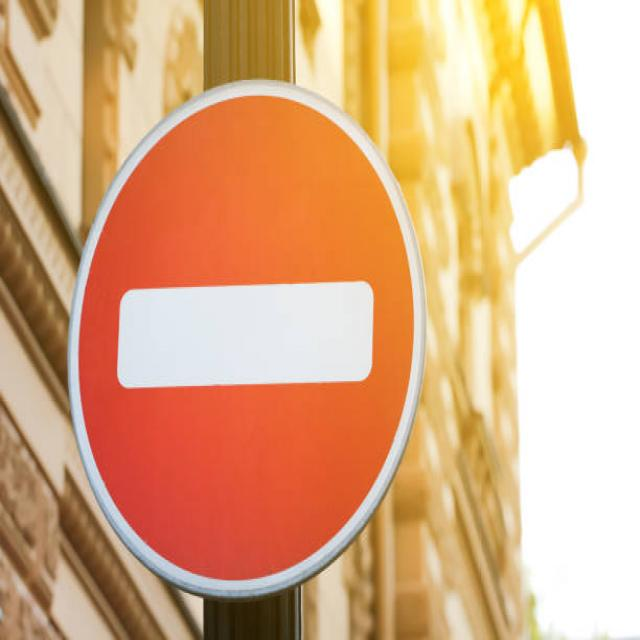do_not_enter: (63, 68, 427, 612)
